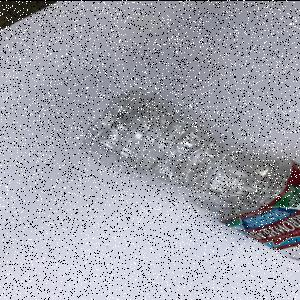Plastic-bottle: (82, 89, 300, 266)
